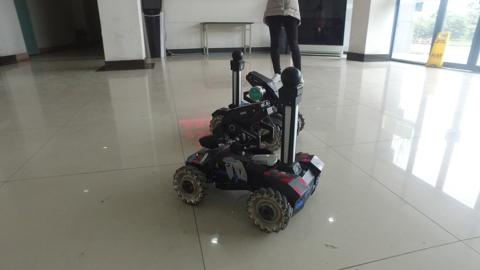chariot: (168, 65, 324, 239)
